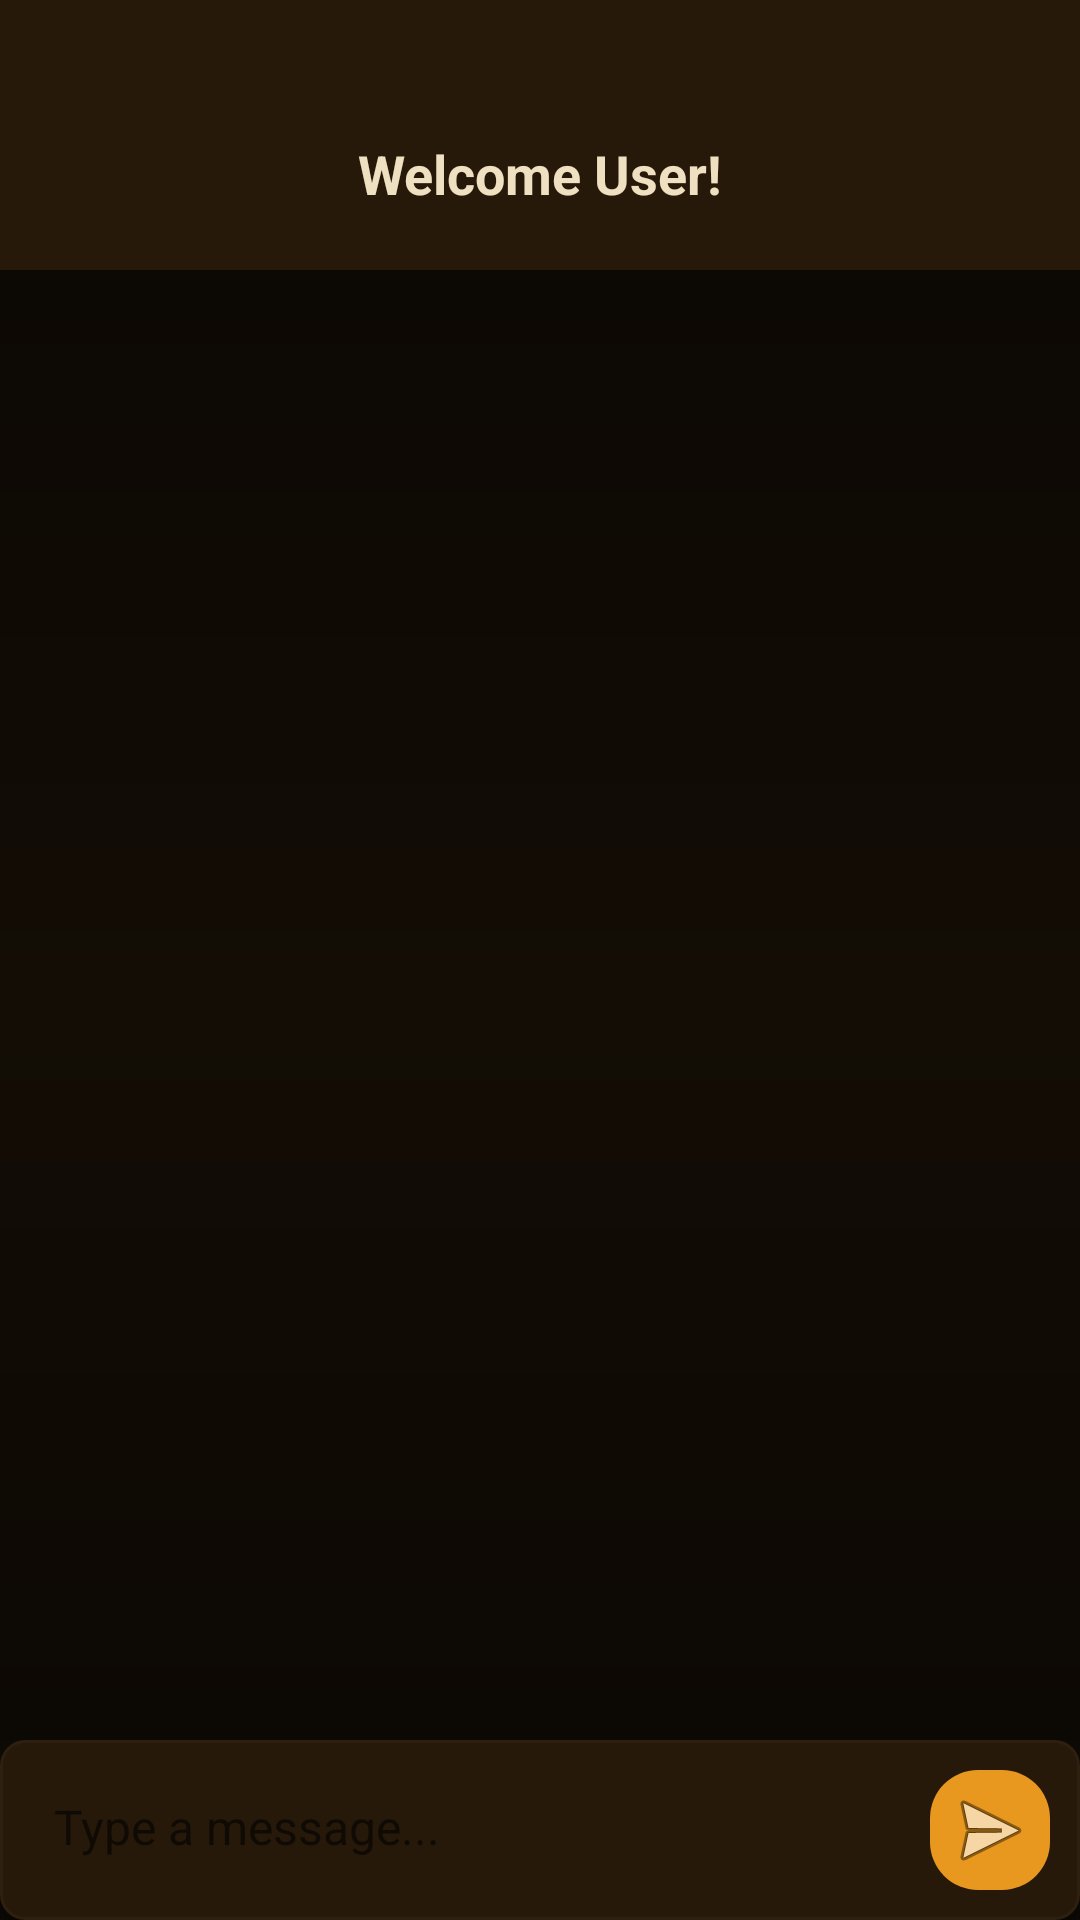

Screen size 1080w x 1920h. Icon name, then its box in pixels as rect(x1, y1, x2, y2):
Send: rect(930, 1770, 1050, 1890)
